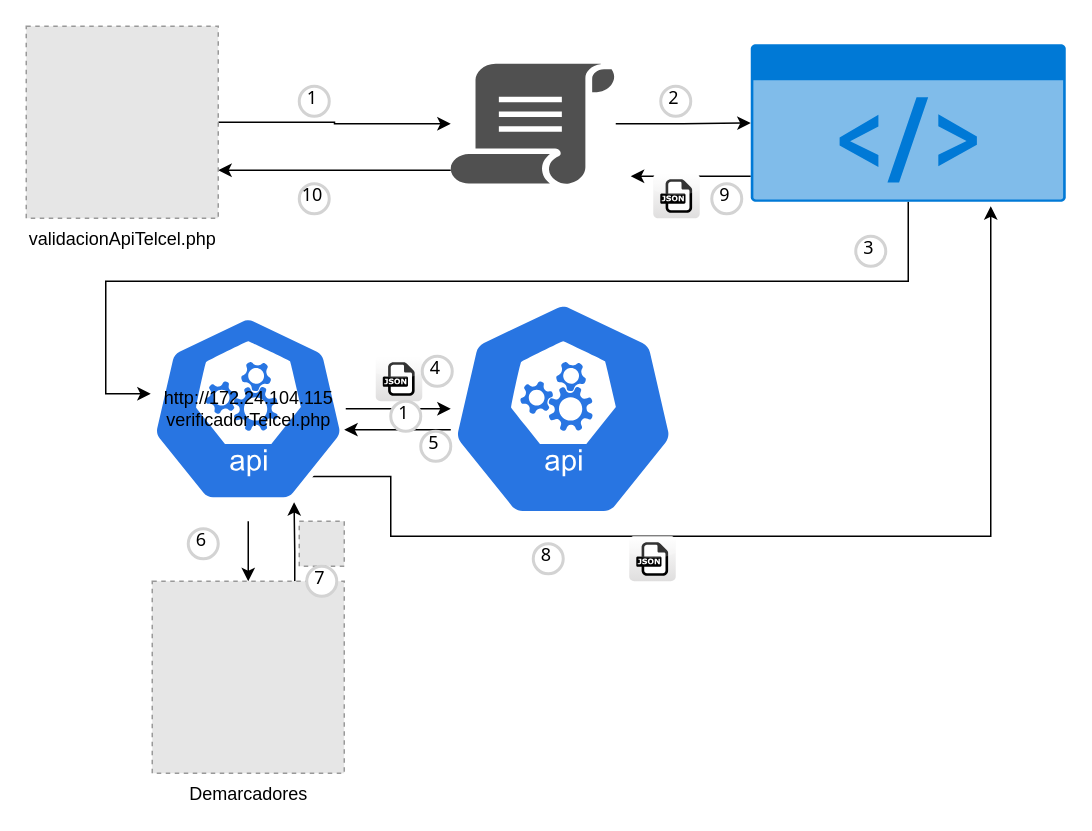
This 1092x831 diagram has some shape labels left out. Grey dashed boxes stand in for pictures. Here are the shapes that lost their labels. From the top down, the centre of each, then its label:
point (532, 123): js/apiTelcel.js
point (907, 122): validacionApiTelcelGet.php
point (562, 408): http://172.24.97.9 ladaEnlacesAPITelcel.php
